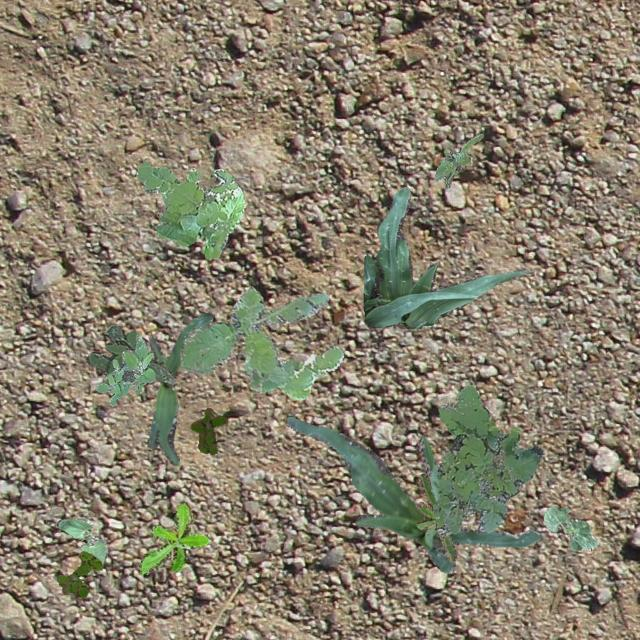crop: (286, 416, 542, 572), (362, 185, 532, 328), (148, 311, 212, 464), (542, 504, 598, 550), (56, 516, 106, 566)
weed: (180, 286, 342, 398), (432, 384, 542, 536), (136, 160, 244, 258), (84, 324, 176, 386), (138, 502, 210, 574), (94, 332, 154, 406), (416, 472, 454, 560), (433, 132, 482, 188), (56, 550, 101, 596), (190, 406, 227, 454)
